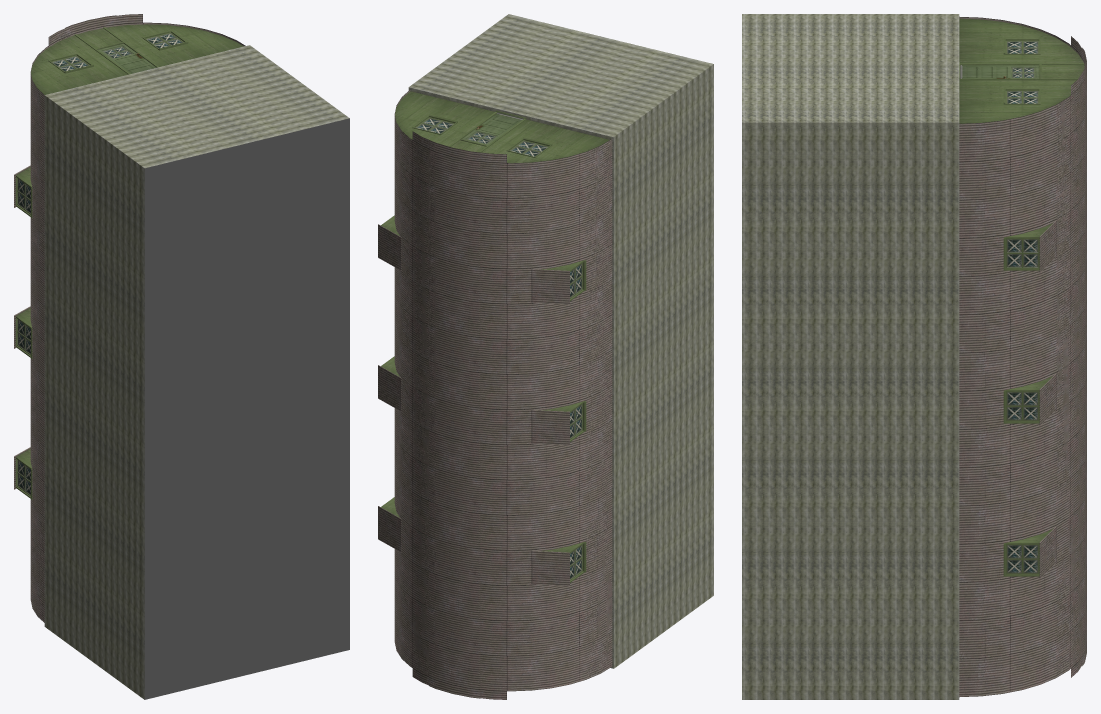
File: Barracks.dae
3 views of the same model, side by side, from view 1: azimuth 30°, elevation 25°; view 2: azimuth 150°, elevation 25°; view 3: azimuth 270°, elevation 25° (orthographic). The views are drawn at different scales.
Visible parts, largest first — view 1: HutFloor1 (×2), group_1, HutEnd1 (×3), DoorSingle; view 2: group_1 (×2), HutFloor1, WinRoof01 (×6), HutEnd1 (×2), DoorSingle; view 3: HutFloor1, group_1 (×2), HutEnd1 (×3), WinRoof01 (×3), DoorSingle.
Boxes of the visible parts, x1,y1,x2,y2 form: HutFloor1 (×2): (44,45,349,699); group_1: (30,14,245,622); HutEnd1 (×3): (31,24,243,94); DoorSingle: (98,43,156,73); group_1 (×2): (394,90,612,699); HutFloor1: (408,14,713,668); WinRoof01 (×6): (378,224,569,586); HutEnd1 (×2): (395,91,609,163); DoorSingle: (462,113,522,145); HutFloor1: (742,14,959,699); group_1 (×2): (959,16,1086,697); HutEnd1 (×3): (959,18,1084,123); WinRoof01 (×3): (1039,220,1056,578); DoorSingle: (960,65,1039,78).
Size of the model in its own units: 240 by 322 by 610.
29 materials, 27 textured.
